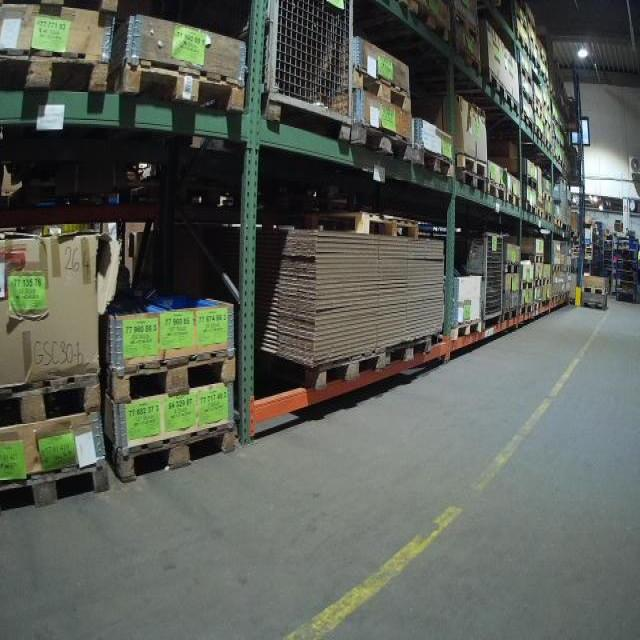pallet: (104, 347, 240, 409), (108, 424, 244, 486), (110, 60, 244, 115), (0, 371, 105, 431), (0, 459, 110, 516), (0, 47, 111, 93), (303, 348, 388, 392), (304, 209, 420, 238), (347, 62, 412, 113), (349, 122, 414, 161), (385, 335, 434, 370), (410, 0, 449, 43), (411, 142, 455, 179), (453, 40, 482, 75), (452, 9, 480, 43), (454, 152, 488, 178), (453, 167, 487, 193), (449, 318, 483, 343), (484, 69, 506, 101), (486, 181, 506, 201), (515, 30, 531, 55), (505, 89, 520, 115), (518, 65, 533, 87), (519, 86, 533, 107), (582, 300, 608, 311), (501, 307, 520, 322), (506, 191, 522, 208), (522, 174, 537, 191), (582, 285, 607, 295), (504, 262, 521, 274), (531, 53, 541, 73), (525, 253, 544, 263), (522, 202, 536, 215), (520, 302, 533, 315), (534, 94, 543, 112), (520, 280, 534, 291), (536, 208, 545, 219), (543, 191, 552, 202), (544, 211, 553, 222), (533, 300, 542, 311), (533, 278, 542, 288), (554, 218, 563, 228), (542, 278, 550, 287), (553, 263, 561, 271)
stillage: (240, 0, 359, 143), (446, 223, 507, 340)
